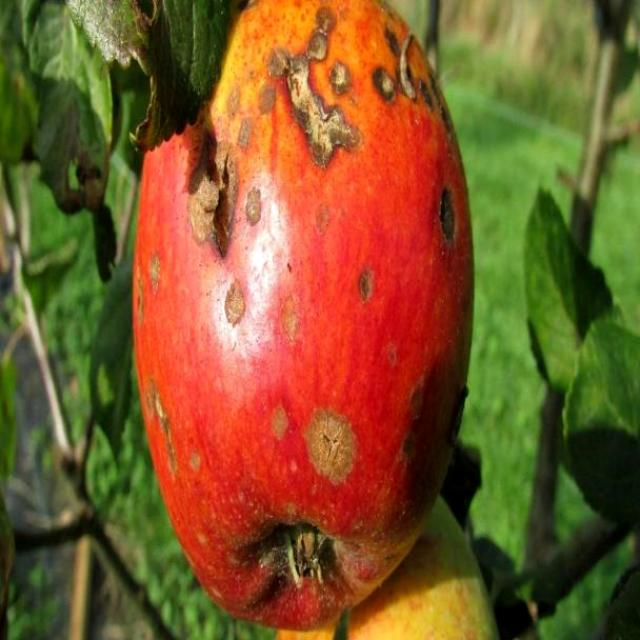BLOTCH: (105, 0, 489, 609)
